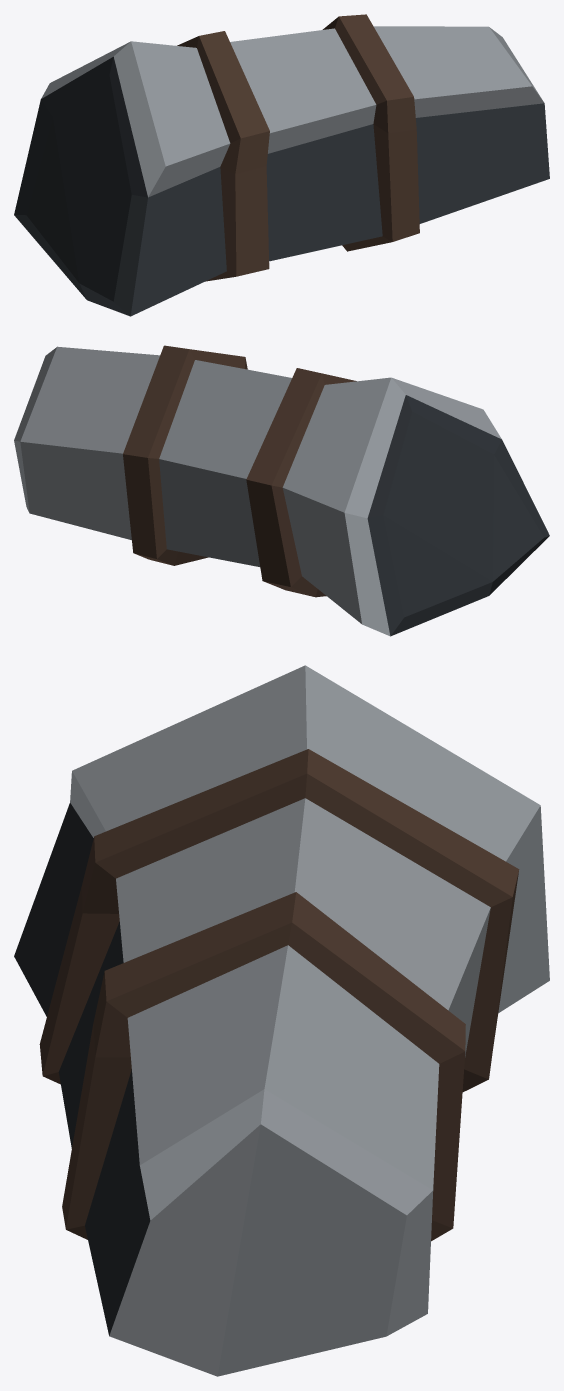
File: Chr_ArmUpperLeft_Male_07_Static.fbx
3 views of the same model, one above another, from view 1: azimuth 30°, elevation 25°; view 2: azimuth 150°, elevation 25°; view 3: azimuth 270°, elevation 25° (orthographic). The views are drawn at different scales.
Visible parts, largest first — view 1: Chr_ArmUpperLeft_Male_07_Static; view 2: Chr_ArmUpperLeft_Male_07_Static; view 3: Chr_ArmUpperLeft_Male_07_Static.
Boxes of the visible parts, left/top/right/bottom form: Chr_ArmUpperLeft_Male_07_Static: left=14, top=14, right=549, bottom=316; Chr_ArmUpperLeft_Male_07_Static: left=14, top=345, right=549, bottom=636; Chr_ArmUpperLeft_Male_07_Static: left=14, top=665, right=549, bottom=1376.
Bounding box in the file's own units: 0.3307 × 0.167 × 0.1832.
